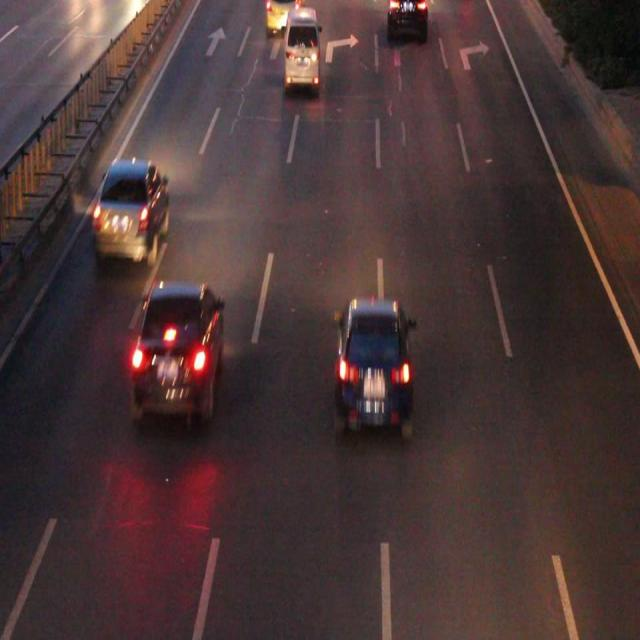car: (134, 285, 223, 412), (337, 298, 410, 432), (94, 161, 168, 255), (388, 1, 425, 38), (266, 1, 300, 32)
truck: (286, 10, 318, 88)
